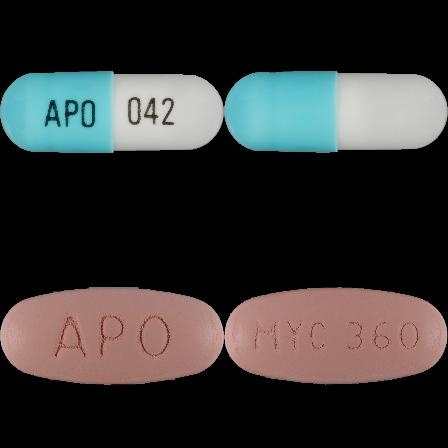60429-012: (0, 0, 224, 224)
